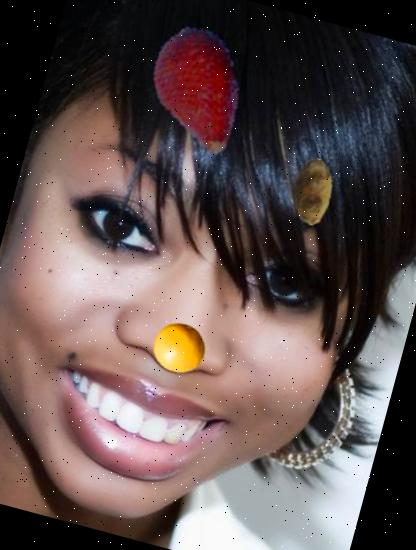Ginger: (272, 151, 354, 232)
Grapefruit: (147, 316, 212, 381)
Salak: (116, 9, 280, 173)
